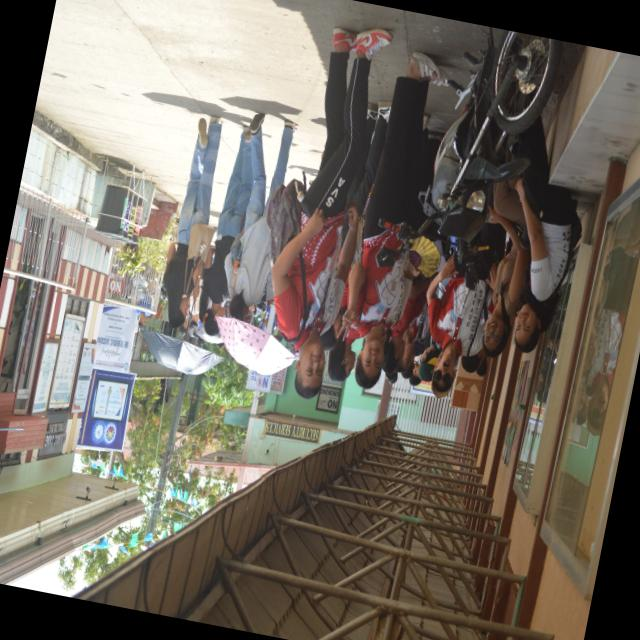person: (271, 27, 392, 398), (340, 51, 445, 387), (224, 113, 296, 321), (514, 116, 575, 351), (426, 223, 504, 396), (163, 116, 220, 327), (199, 126, 252, 335), (482, 176, 530, 356), (346, 101, 390, 213), (460, 348, 485, 372), (476, 356, 487, 376)
